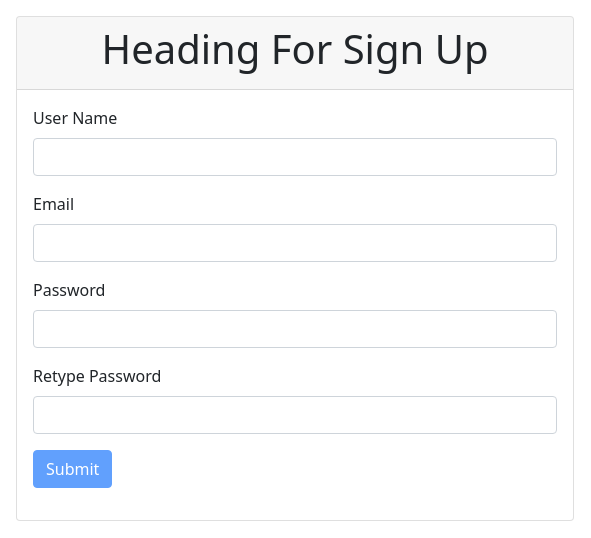
sign up page › interaction › has submit button enabled when the user type password and repassowrd
The image size is (591, 538).
Type "passw8rd" into the password field labelled "Password". click: (295, 329)
box: [33,310,557,348]
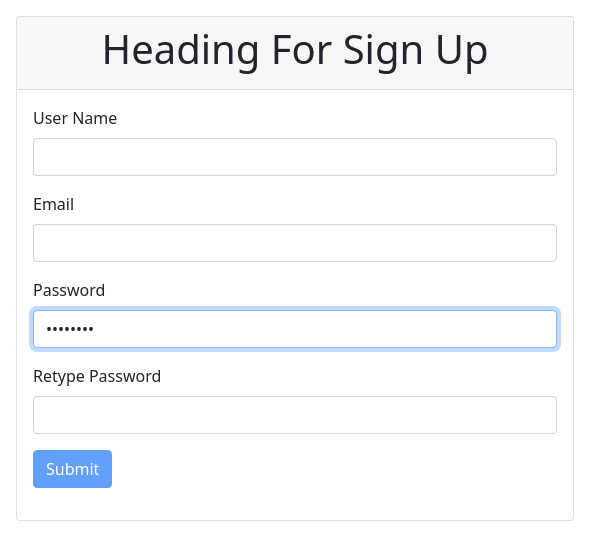
Type "passw8rd" into the password field labelled "Retype Password". click: (295, 415)
box: [33,396,557,434]
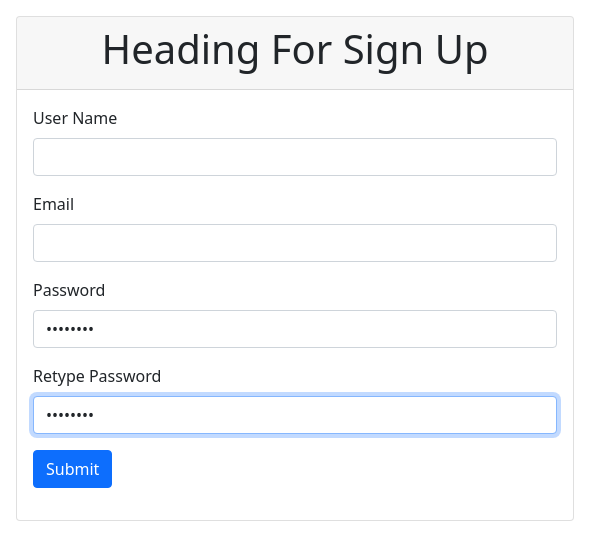
Check: the button "Submit" is enabled, box [33,450,112,488]
